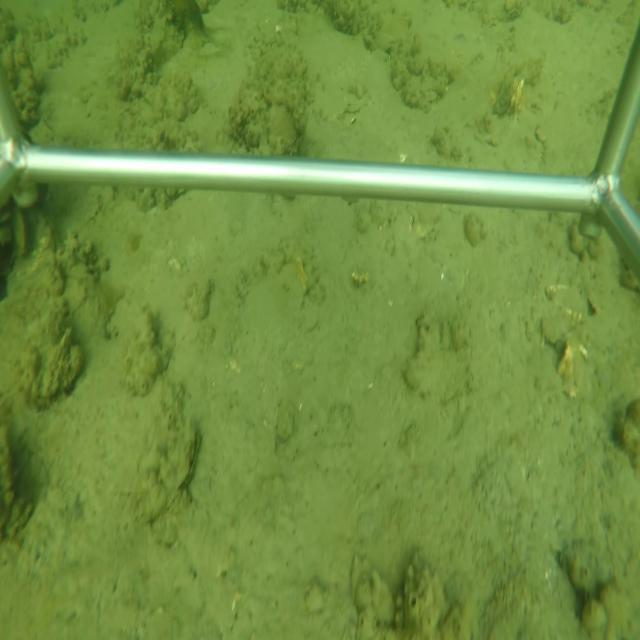Oyster-Closed: (142, 422, 205, 522), (25, 339, 87, 411)
Oyster-Indeterminate: (399, 318, 472, 403)
